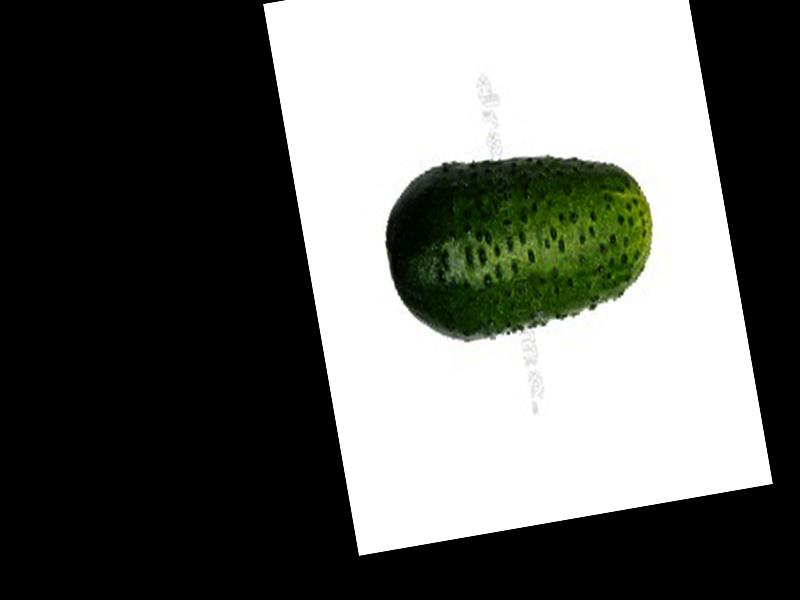Cucumber: (373, 129, 668, 355)
